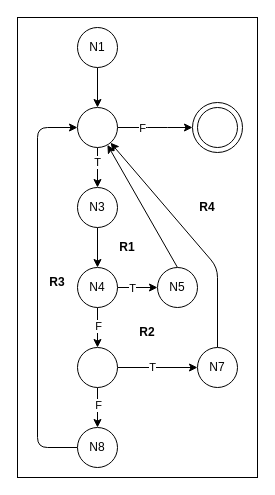
The diagram is 275 pixels wide and 495 high, and some of its shapes have lost their labels. Here are the shapes that lost their labels. From the top down, the centre of each, then its label:
pixel 97 127: N2
pixel 217 127: N9
pixel 97 367: N6
